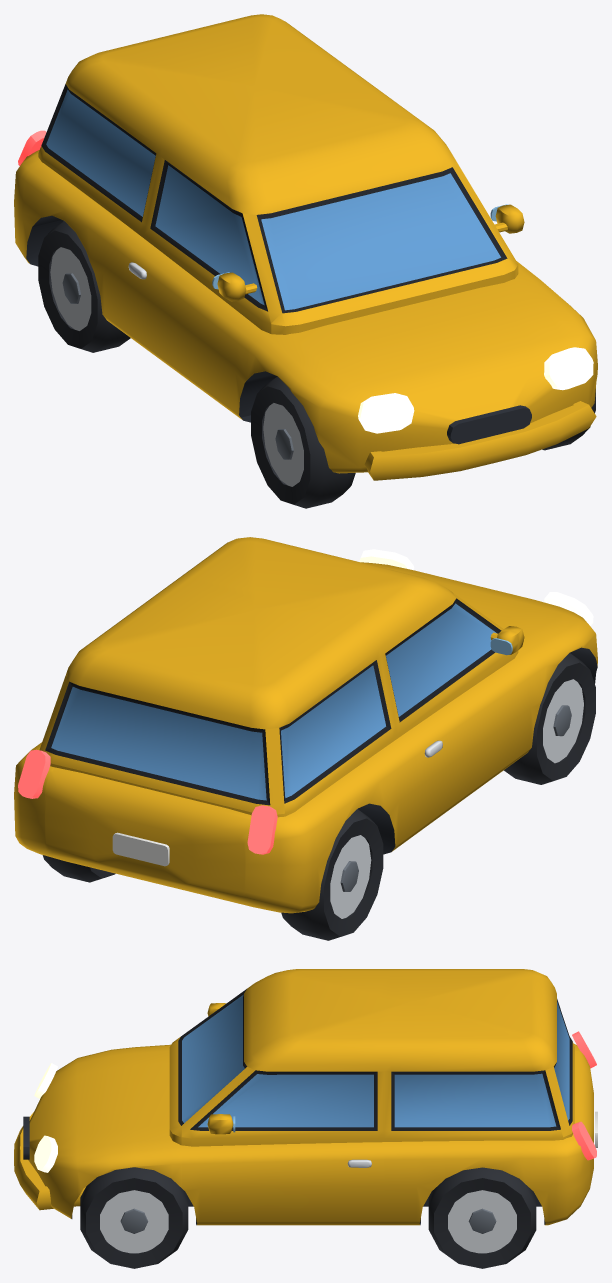
The model's file is compacto_amarelo.glb.
3 views of the same model, one above another, from view 1: azimuth 30°, elevation 25°; view 2: azimuth 150°, elevation 25°; view 3: azimuth 270°, elevation 25° (orthographic). The views are drawn at different scales.
Visible parts, largest first — view 1: compacto_amarelo, porta_dianteira_esq, roda_dianteira_esq, roda_traseira_esq, porta_dianteira_dir; view 2: compacto_amarelo, tampa_traseira, porta_dianteira_esq, roda_traseira_esq, roda_dianteira_esq, roda_traseira_dir; view 3: compacto_amarelo, porta_dianteira_dir, roda_dianteira_dir, roda_traseira_dir, tampa_traseira.
Part boxes in pixels (x1=…): compacto_amarelo: x1=14, y1=14, x2=597, y2=480; porta_dianteira_esq: x1=123, y1=157, x2=281, y2=417; roda_dianteira_esq: x1=251, y1=377, x2=355, y2=508; roda_traseira_esq: x1=38, y1=221, x2=130, y2=352; porta_dianteira_dir: x1=453, y1=161, x2=533, y2=274; compacto_amarelo: x1=14, y1=537, x2=597, y2=913; tampa_traseira: x1=39, y1=660, x2=391, y2=874; porta_dianteira_esq: x1=381, y1=593, x2=542, y2=833; roda_traseira_esq: x1=281, y1=809, x2=383, y2=940; roda_dianteira_esq: x1=504, y1=653, x2=595, y2=784; roda_traseira_dir: x1=42, y1=855, x2=115, y2=882; compacto_amarelo: x1=14, y1=969, x2=597, y2=1225; porta_dianteira_dir: x1=182, y1=1067, x2=384, y2=1223; roda_dianteira_dir: x1=80, y1=1167, x2=188, y2=1268; roda_traseira_dir: x1=428, y1=1167, x2=536, y2=1268; tampa_traseira: x1=391, y1=999, x2=593, y2=1172.
Bounding box in the file's own units: 1.86 × 1.54 × 3.81.
Materials: 4 (1 with a texture image).
